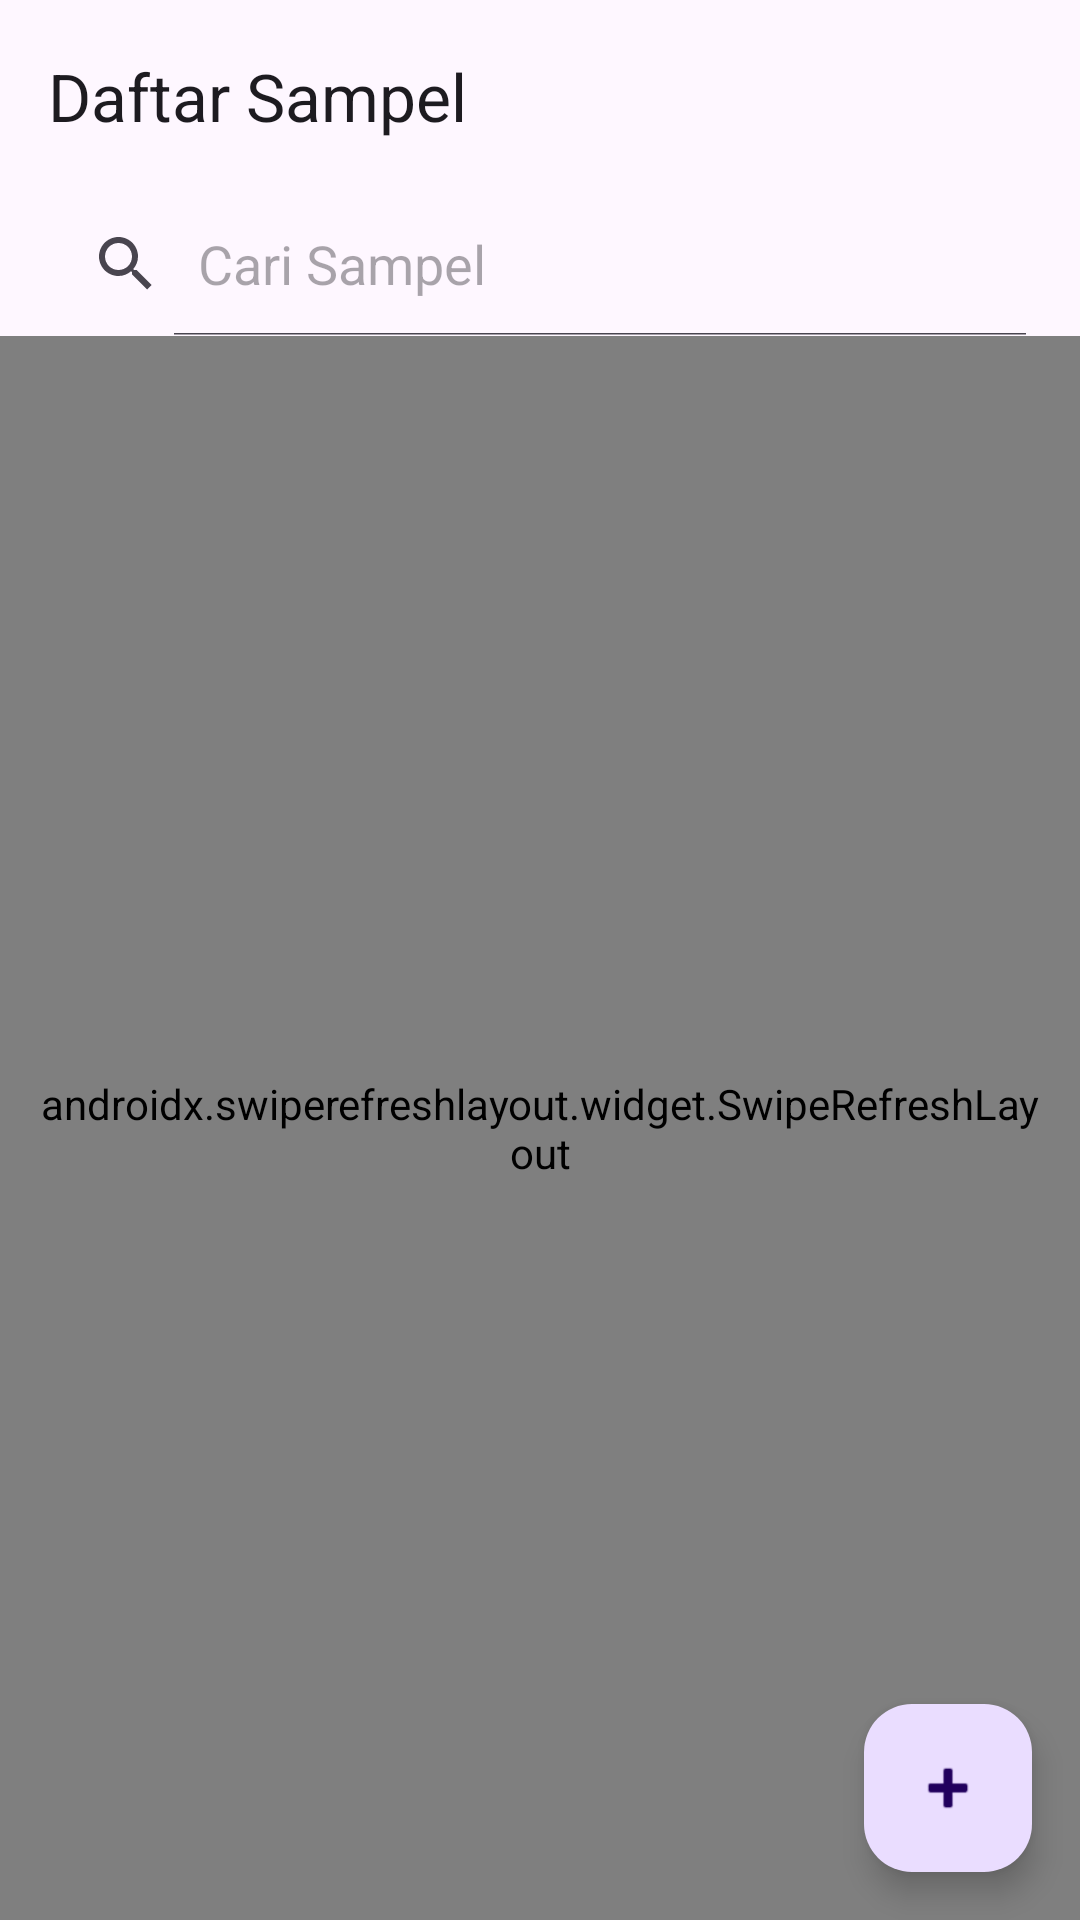

Where icons sit on this 1080px×1920px app screen, as {"left": x1, "top": y1, "right": x2, "bottom": y2}:
Tambah: {"left": 864, "top": 1704, "right": 1032, "bottom": 1872}
